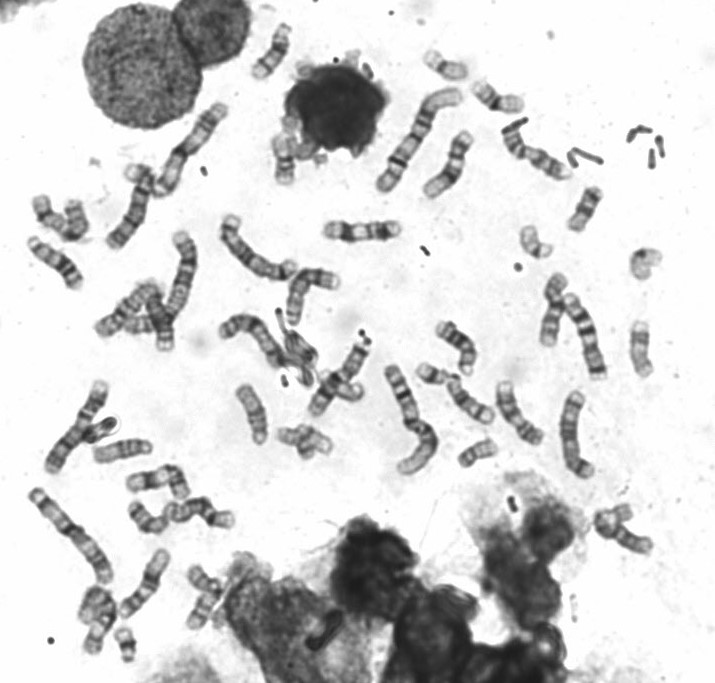chromosomes: (372, 84, 470, 200), (22, 478, 121, 588), (119, 220, 201, 338), (152, 98, 236, 201), (43, 374, 119, 480), (380, 360, 443, 480), (93, 279, 182, 362), (216, 208, 301, 287), (304, 335, 381, 420), (494, 120, 576, 189), (101, 158, 159, 251), (560, 291, 616, 384), (213, 305, 287, 374), (421, 122, 482, 205), (115, 540, 177, 621), (589, 500, 665, 562), (281, 263, 351, 329), (556, 385, 599, 488), (23, 231, 88, 296), (493, 376, 549, 450), (25, 188, 91, 247), (247, 16, 302, 83), (71, 584, 122, 656), (121, 455, 198, 500), (443, 369, 502, 426), (181, 560, 225, 635), (430, 316, 482, 379), (321, 211, 407, 247), (164, 493, 241, 533), (228, 376, 271, 447), (535, 268, 572, 350), (258, 127, 298, 193), (92, 433, 163, 470), (565, 181, 608, 236), (472, 76, 529, 117), (417, 45, 475, 84), (625, 315, 658, 381), (318, 365, 370, 405), (513, 220, 559, 263), (127, 497, 170, 541), (273, 420, 318, 462), (293, 423, 342, 459), (111, 624, 146, 674), (625, 244, 666, 286), (456, 437, 500, 469), (411, 359, 448, 389)
